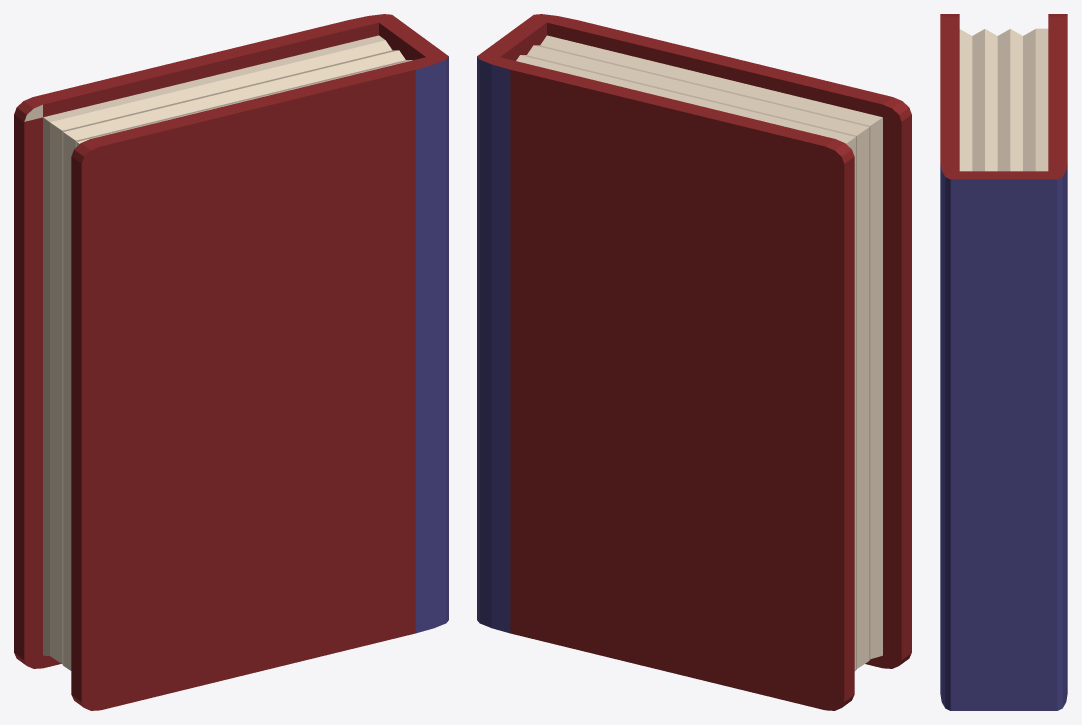
File: book_red.fbx
3 renders of one model, left to right at view 1: azimuth 30°, elevation 25°; view 2: azimuth 150°, elevation 25°; view 3: azimuth 270°, elevation 25°, orthographic. The views are drawn at different scales.
Parts seen in each view (by area): view 1: book_red; view 2: book_red; view 3: book_red.
Boxes of the visible parts, left/top/right/bottom form: book_red: left=14, top=14, right=448, bottom=710; book_red: left=477, top=14, right=911, bottom=710; book_red: left=940, top=14, right=1067, bottom=710.
Bounding box in the file's own units: 27.16 × 39.28 × 8.53.
